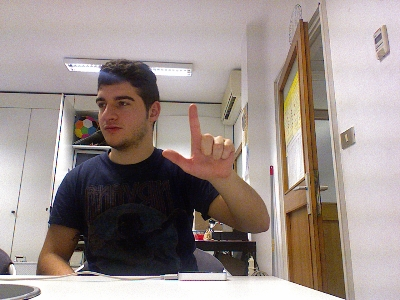枪: (161, 102, 236, 181)
